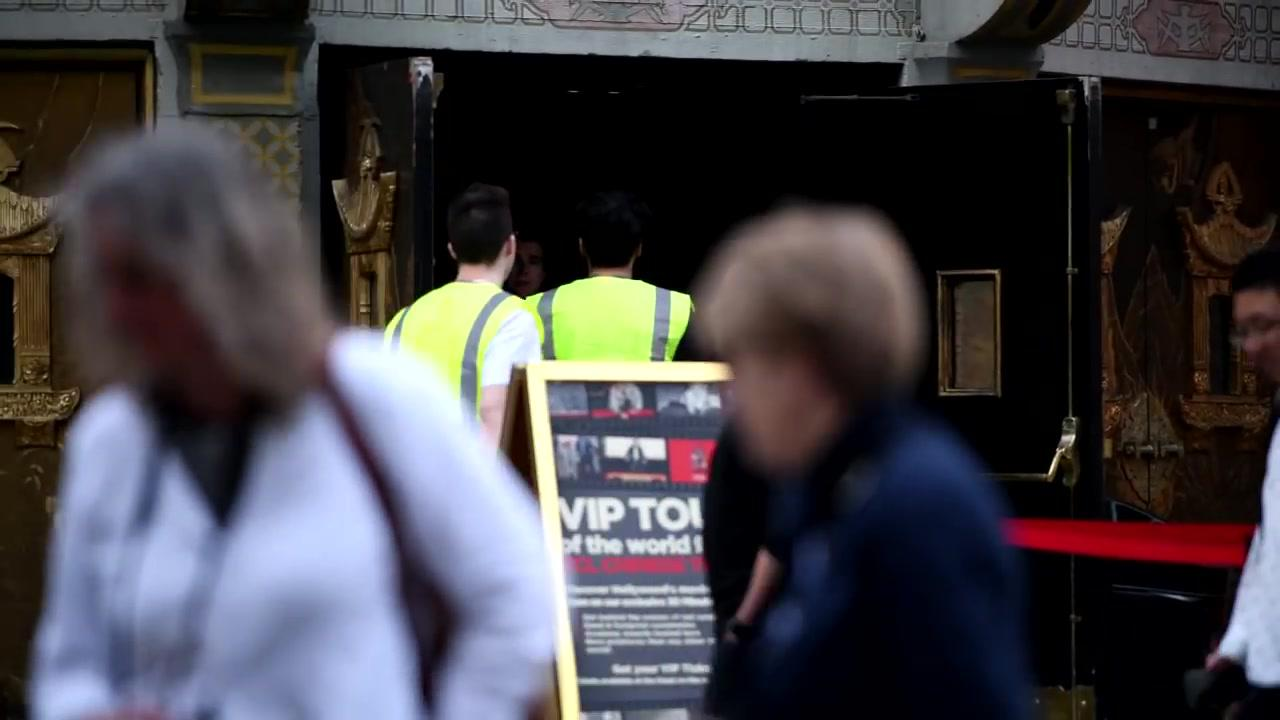Hi-Vis Jacket: (389, 282, 545, 425), (536, 275, 698, 376)
no -hi-vis jacket: (84, 387, 429, 720)
